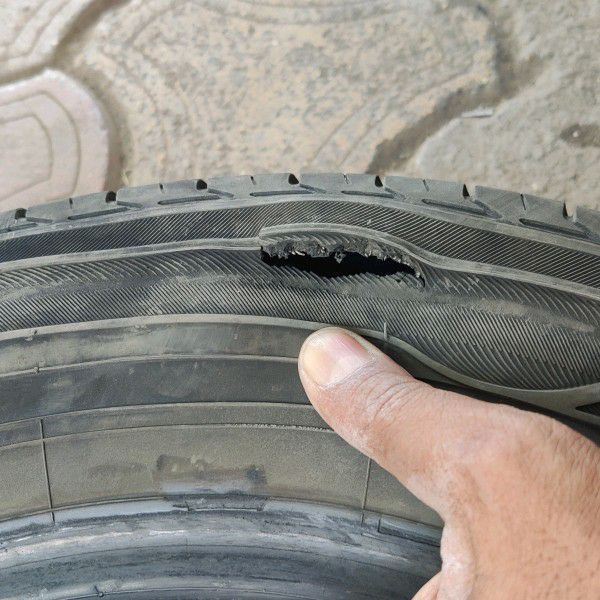cut: (253, 216, 446, 293)
